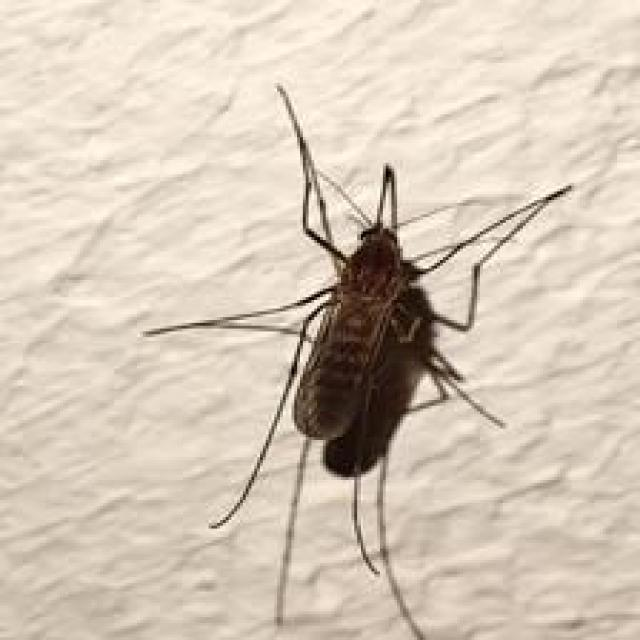Culex: (137, 80, 574, 640)
